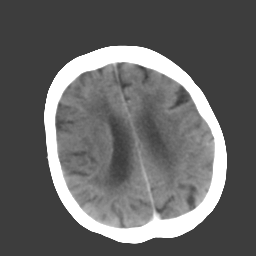ischemic: (60, 118, 110, 171)
